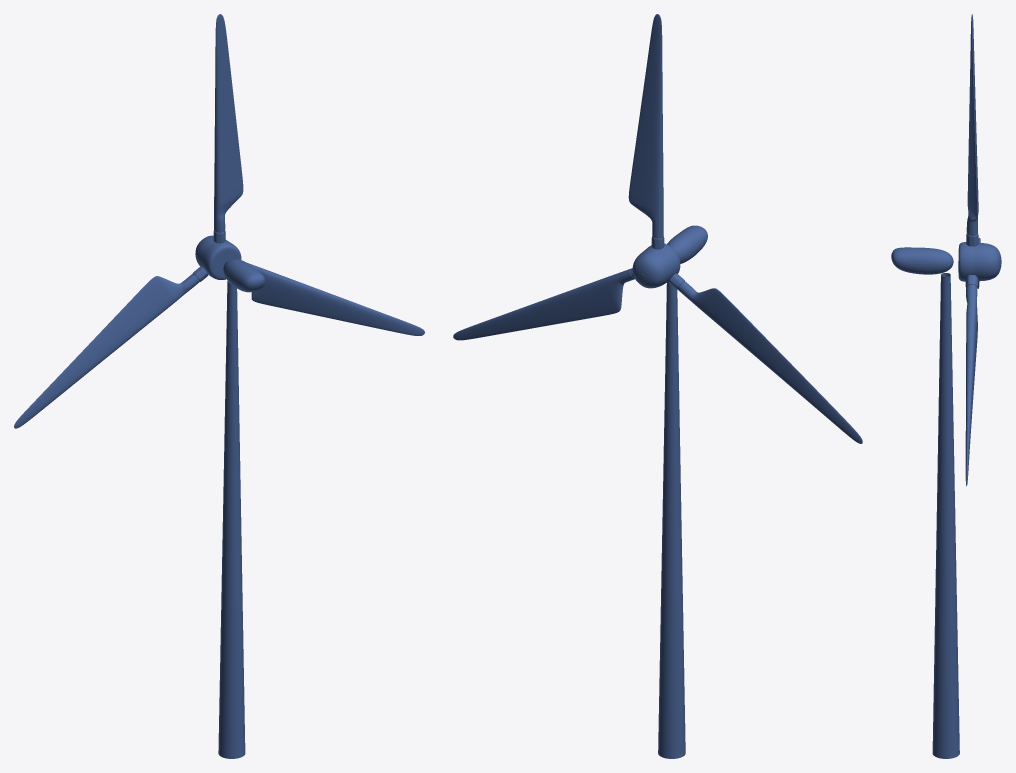
Rendered from wind driven generator.obj.
The picture shows the model from 3 angles, left to right: view 1: azimuth 30°, elevation 25°; view 2: azimuth 150°, elevation 25°; view 3: azimuth 270°, elevation 25°; orthographic projection. The views are drawn at different scales.
Parts seen in each view (by area): view 1: wind_driven_generator.037; view 2: wind_driven_generator.037; view 3: wind_driven_generator.037.
Part boxes in pixels (bbox=[...]): wind_driven_generator.037: bbox=[14, 14, 424, 758]; wind_driven_generator.037: bbox=[453, 14, 862, 758]; wind_driven_generator.037: bbox=[891, 14, 1001, 758].
Bounding box in the file's own units: 1.23 × 2.11 × 0.2855.
